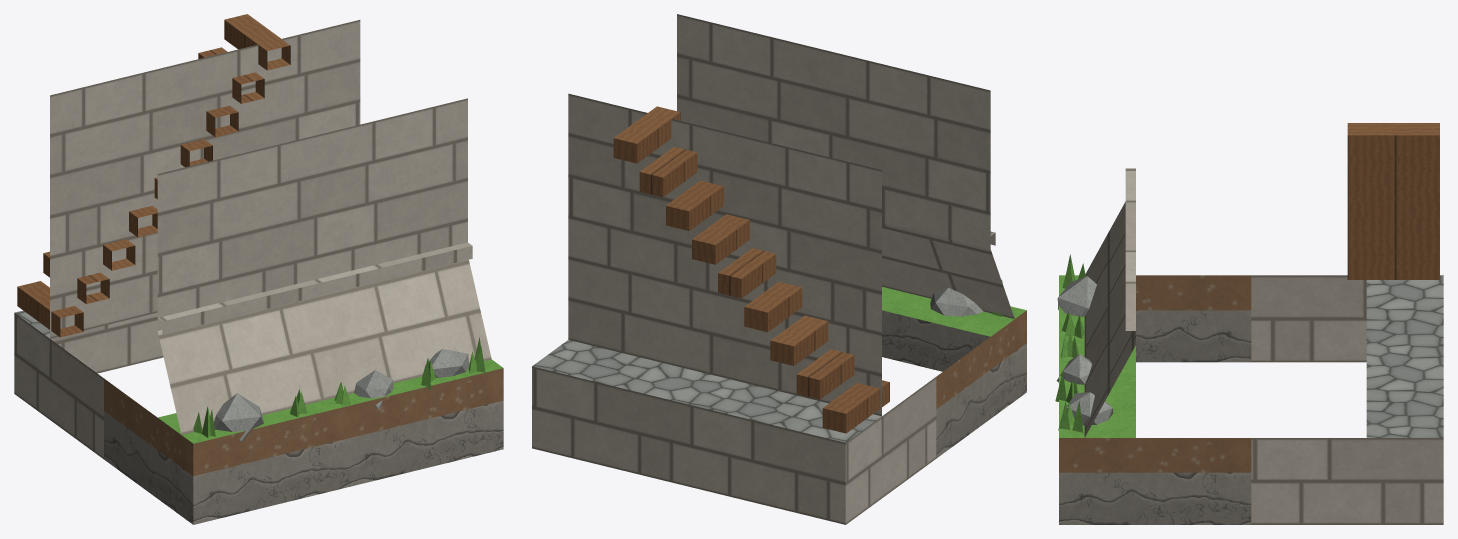
Rendered from Wall_Base_Stair.fbx.
3 renders of one model, left to right at view 1: azimuth 30°, elevation 25°; view 2: azimuth 150°, elevation 25°; view 3: azimuth 270°, elevation 25°, orthographic. The views are drawn at different scales.
Visible parts, largest first — view 1: Wall_Base_Stair; view 2: Wall_Base_Stair; view 3: Wall_Base_Stair.
Part boxes in pixels (x1,y1,x2,y2): Wall_Base_Stair: (14, 14, 503, 524); Wall_Base_Stair: (532, 14, 1026, 524); Wall_Base_Stair: (1055, 123, 1443, 524).
Size of the model in its own units: 3 by 3 by 3.03.
Materials: 7 (7 with a texture image).
